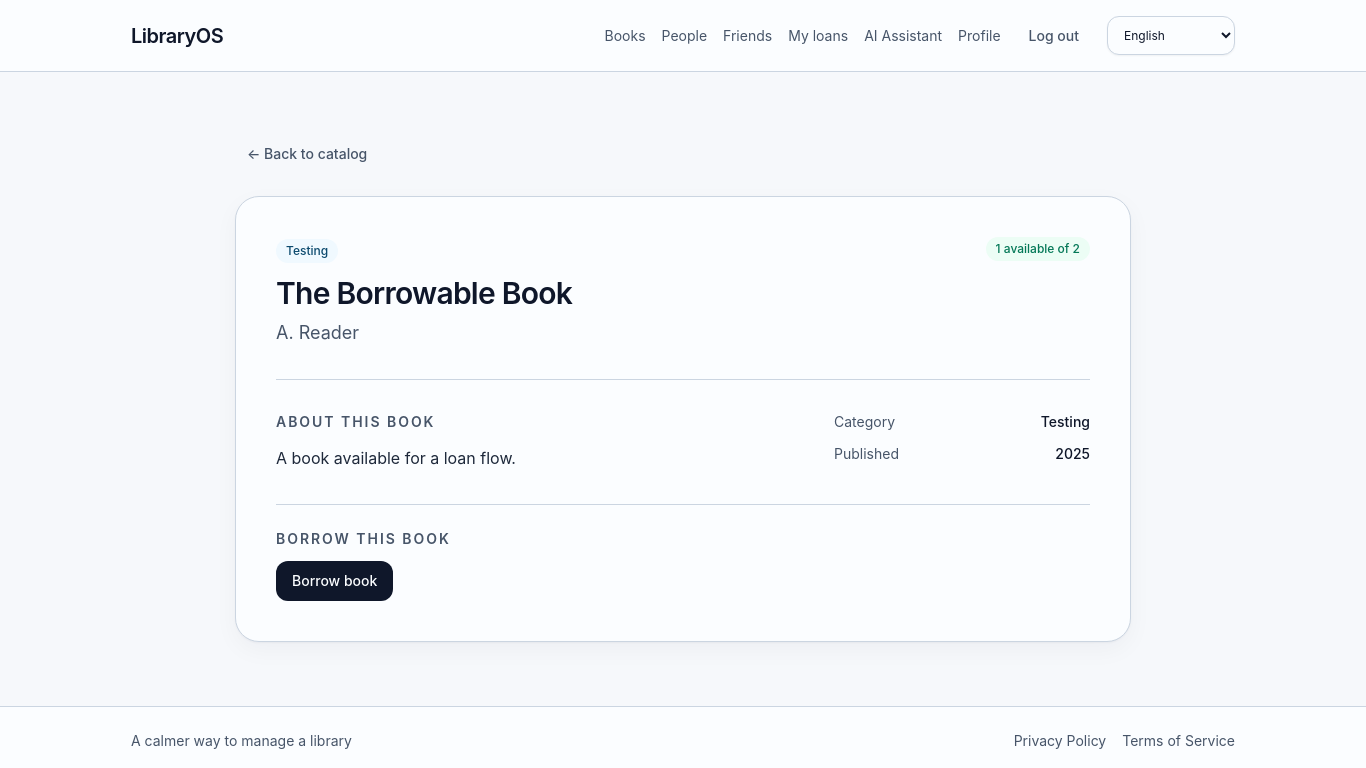
Test: loan application flows › borrows a book from its detail page and refreshes availability
Click the button "Borrow book" at (335, 581), box [276,561,393,601]
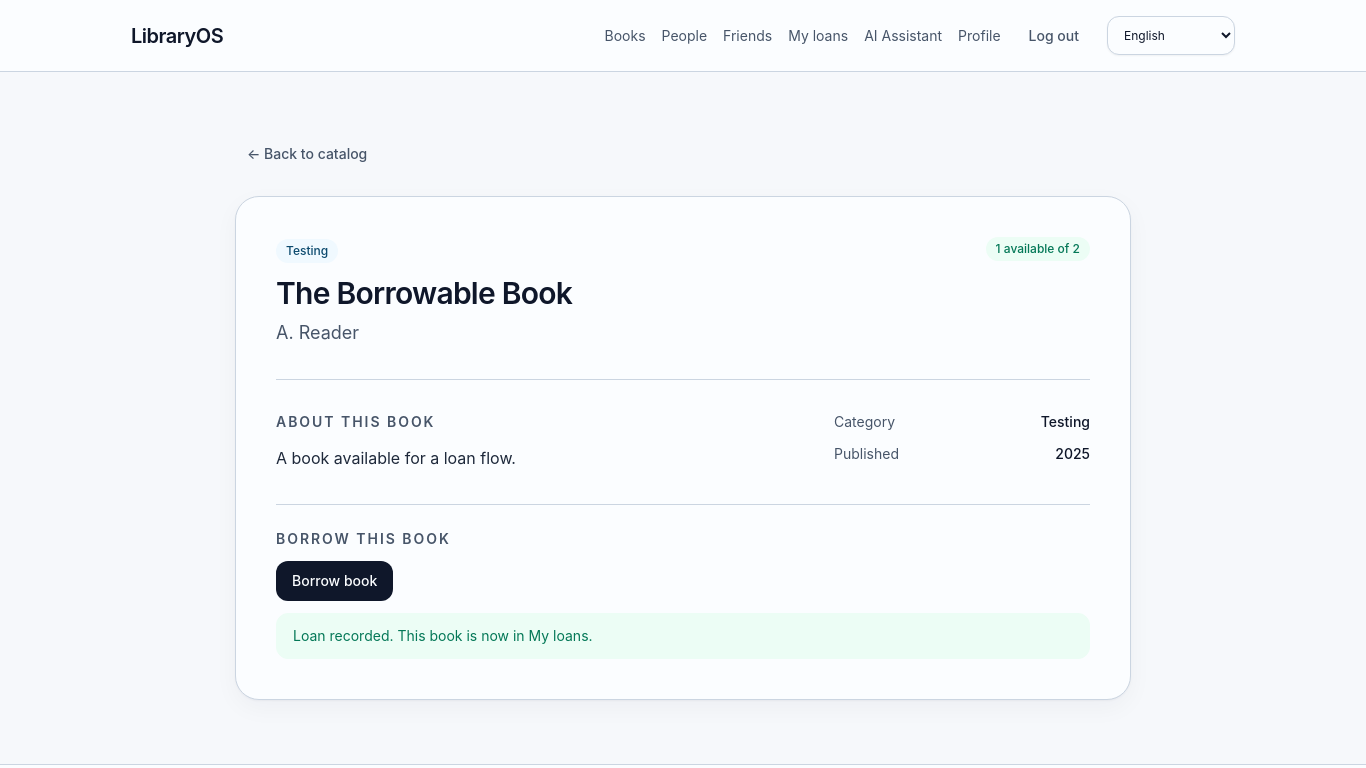
Expected: the text "Loan recorded. This book is now in My loans." is shown, [276,613,1090,659]
